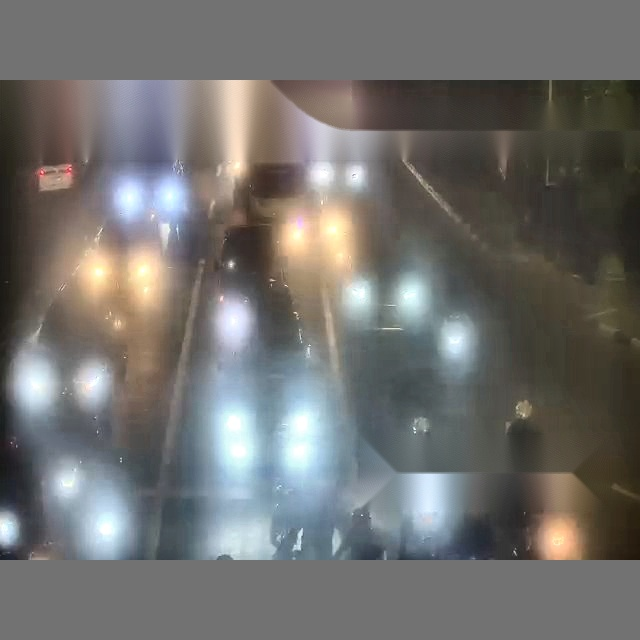Motor: (436, 314, 477, 383), (218, 293, 252, 361), (344, 276, 376, 330)
